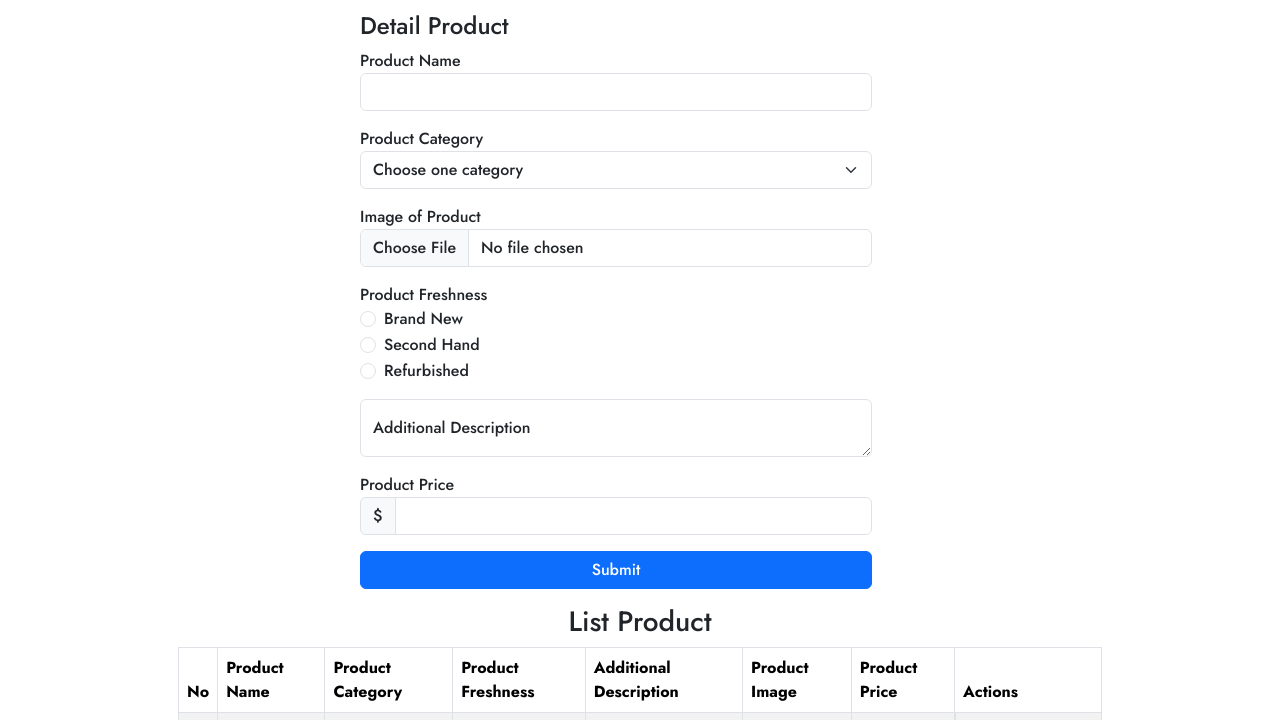
Test: tes validasi semua form tidak boleh kosong
(page scrolled)
Click the button "Submit".
click(616, 570)  # box 360,551 -> 872,589
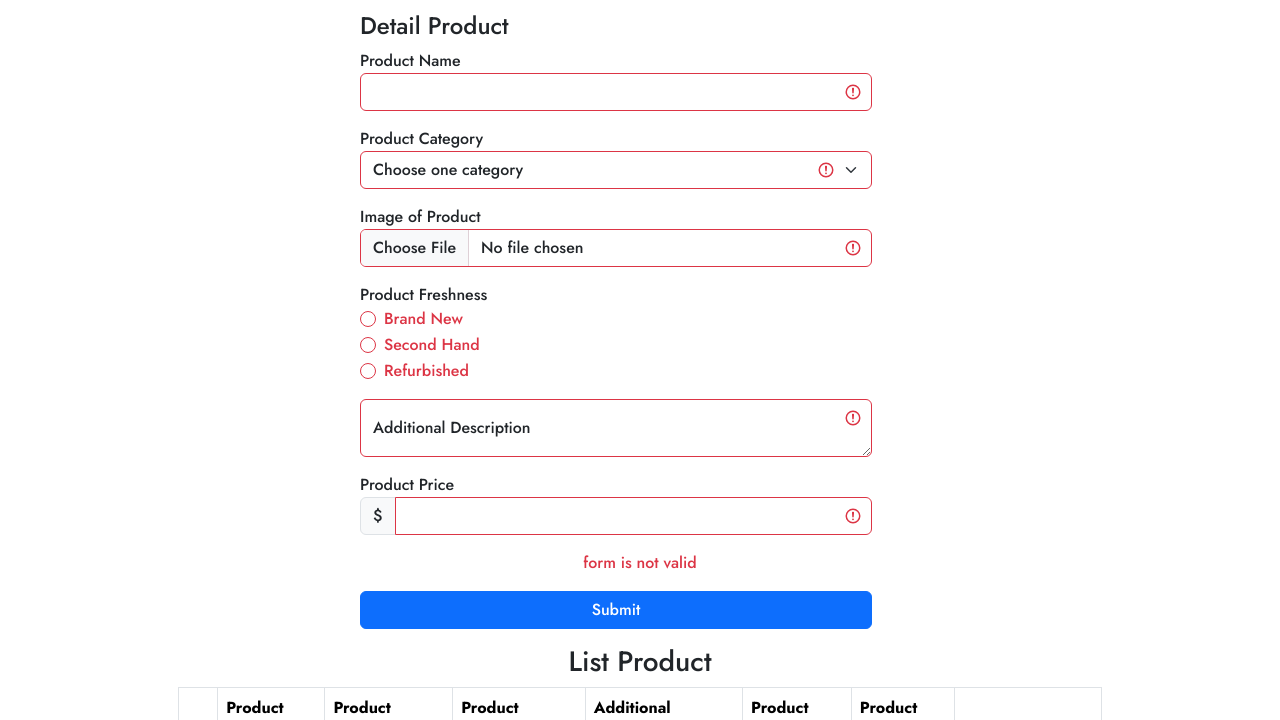
Expected: the text "form is not valid" is shown, 583,551 -> 697,574
